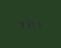nine: (18, 19, 23, 27)
one: (30, 20, 35, 28)
seven: (36, 20, 41, 28)
three: (24, 19, 29, 27)
